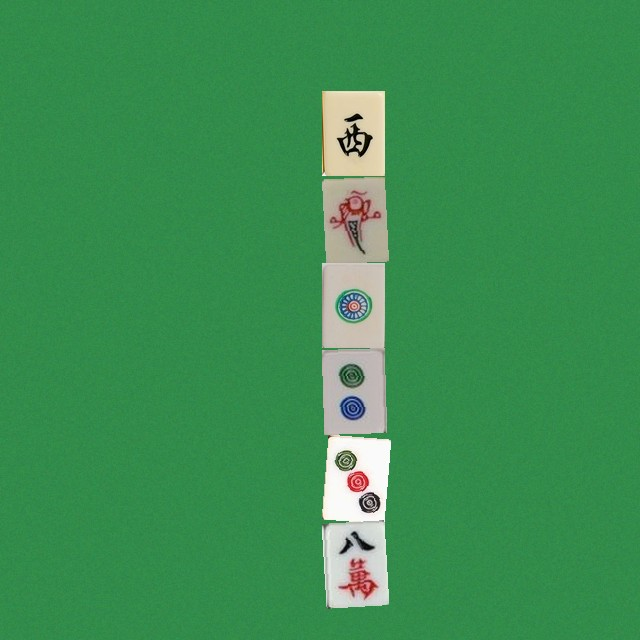tile: (321, 90, 384, 175), (321, 176, 384, 261), (321, 262, 384, 347), (321, 348, 384, 433), (321, 434, 384, 519), (321, 520, 384, 605)
